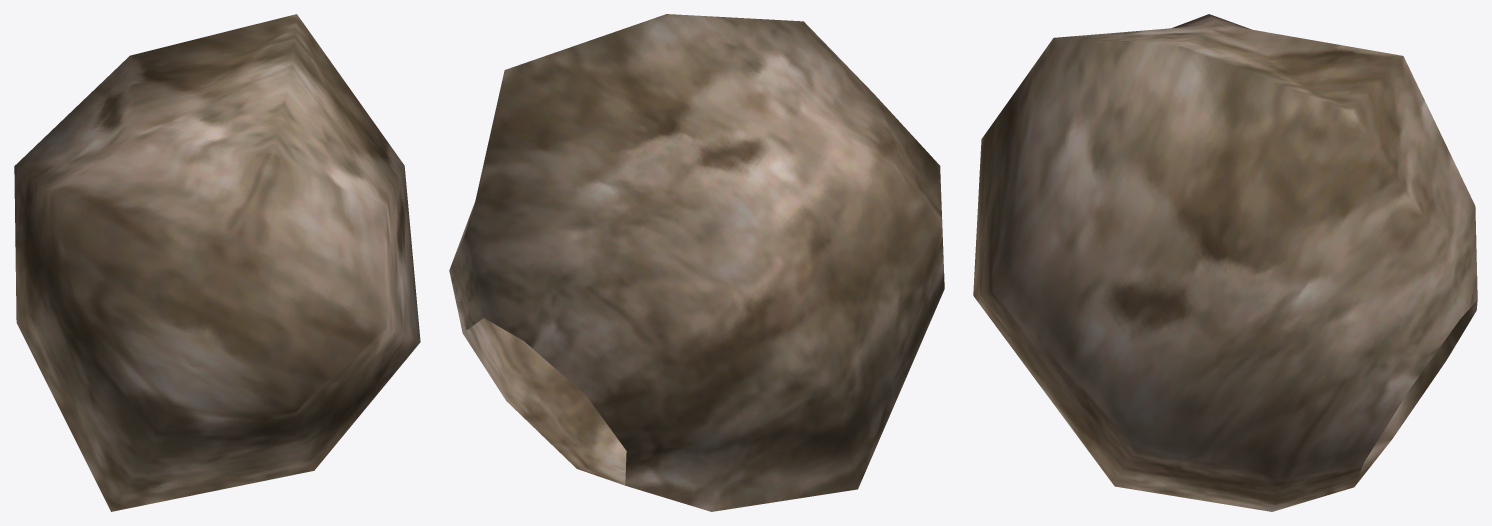
File: OVERHILL_A_01_ROCK55.fbx
3 renders of one model, left to right at view 1: azimuth 30°, elevation 25°; view 2: azimuth 150°, elevation 25°; view 3: azimuth 270°, elevation 25°, orthographic. The views are drawn at different scales.
Parts seen in each view (by area): view 1: OVERHILL_A_01_ROCK55; view 2: OVERHILL_A_01_ROCK55; view 3: OVERHILL_A_01_ROCK55.
Boxes of the visible parts, left/top/right/bottom form: OVERHILL_A_01_ROCK55: left=14, top=14, right=420, bottom=511; OVERHILL_A_01_ROCK55: left=449, top=14, right=944, bottom=511; OVERHILL_A_01_ROCK55: left=973, top=14, right=1477, bottom=511.
Bounding box in the file's own units: 5881 × 5989 × 5867.
1 material, 1 textured.
